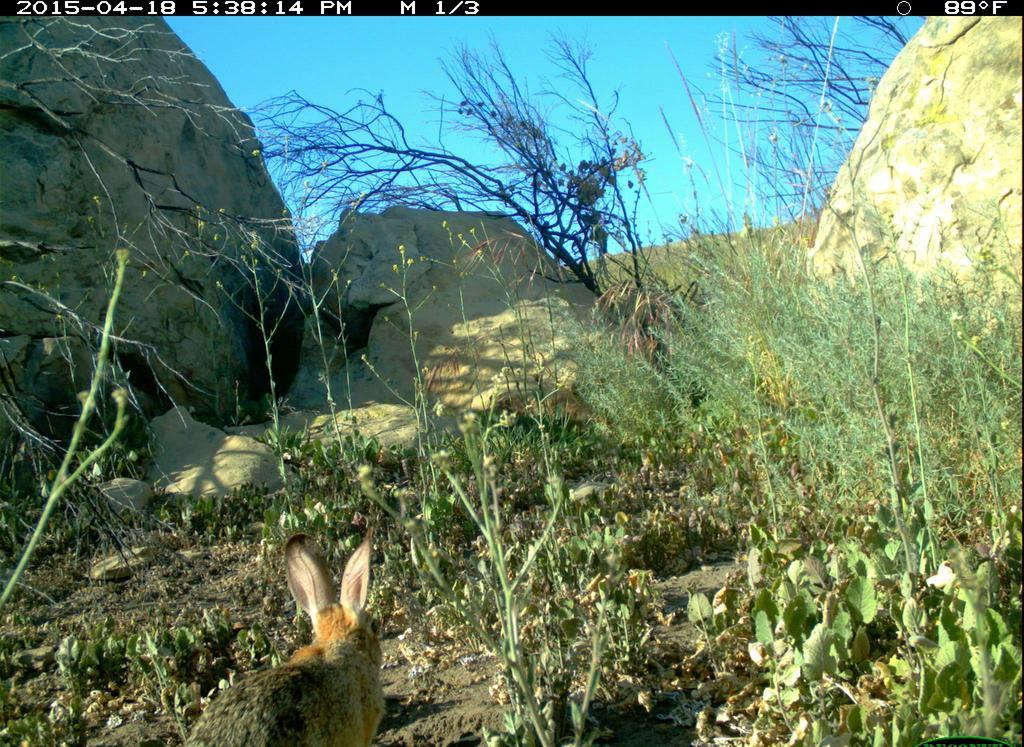rabbit: (181, 524, 390, 747)
